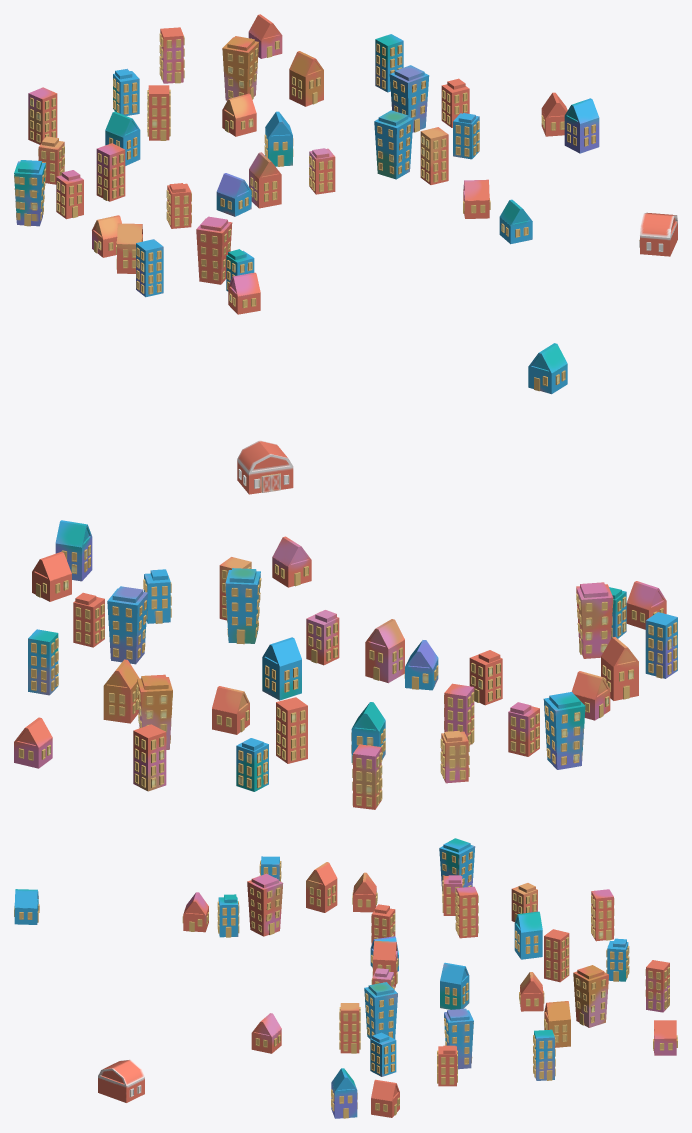
File: buildings_noid.obj
The picture shows the model from 3 angles, top to bottom: view 1: azimuth 30°, elevation 25°; view 2: azimuth 150°, elevation 25°; view 3: azimuth 270°, elevation 25°; orthographic projection. The views are drawn at different scales.
Parts seen in each view (by area): view 1: buildings_noid; view 2: buildings_noid; view 3: buildings_noid.
Part boxes in pixels (left/top/right/bottom): buildings_noid: left=14, top=14, right=677, bottom=314; buildings_noid: left=14, top=343, right=677, bottom=809; buildings_noid: left=14, top=838, right=677, bottom=1118.
Bounding box in the file's own units: 78.89 × 18.56 × 95.61.
1 material, 1 textured.
